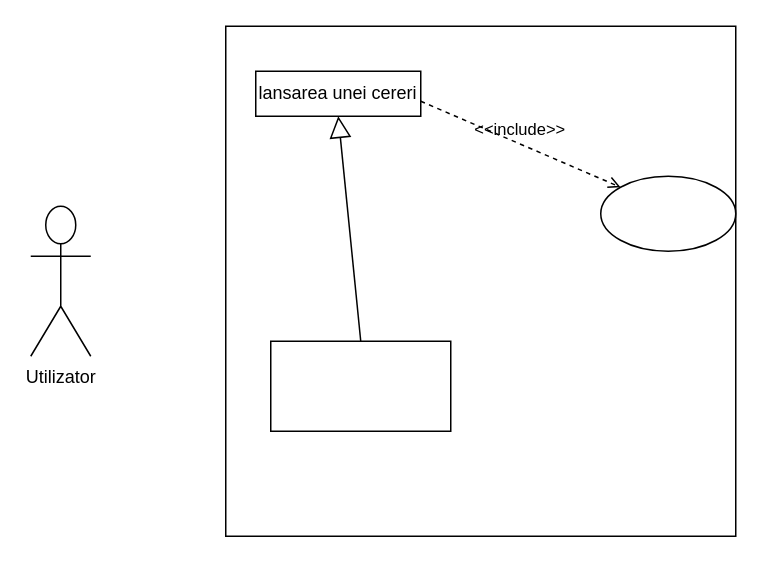
This 762x563 diagram has some shape labels left out. Each missing label, with the box of its shape:
Informatii: (269, 340, 451, 431)
login: (599, 175, 736, 251)
